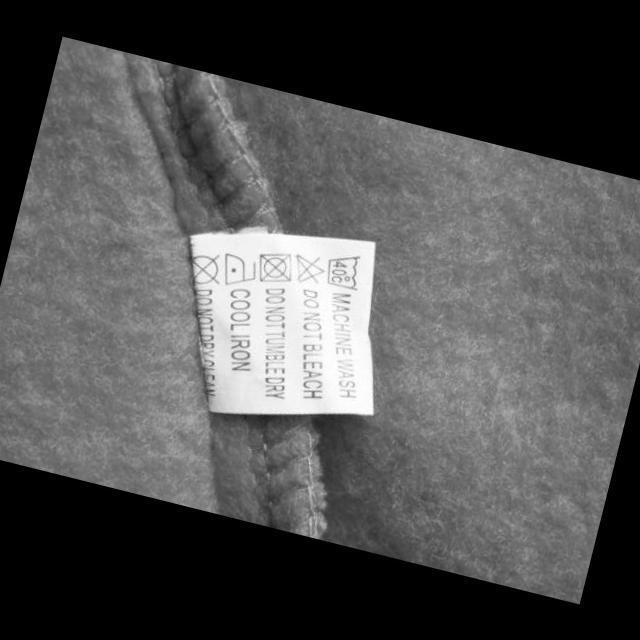40C: (316, 245, 366, 298)
DN_bleach: (284, 246, 330, 294)
DN_dry_clean: (180, 243, 228, 294)
DN_tumble_dry: (248, 242, 300, 292)
iron_low: (213, 249, 262, 294)
